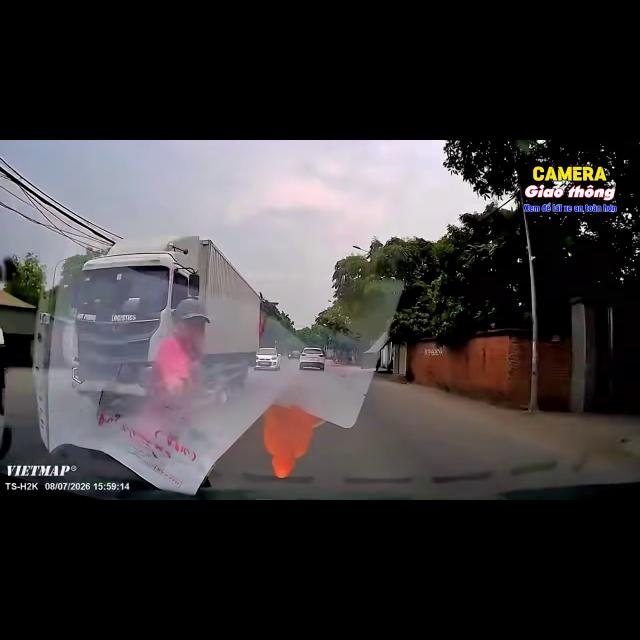car: (299, 347, 325, 370), (254, 348, 281, 369), (289, 351, 299, 358)
truck: (72, 236, 263, 395)
